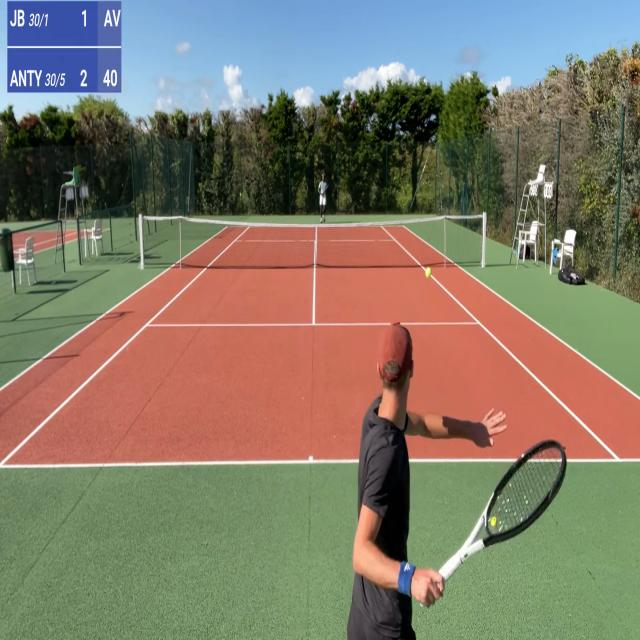ball: (425, 266, 432, 281)
